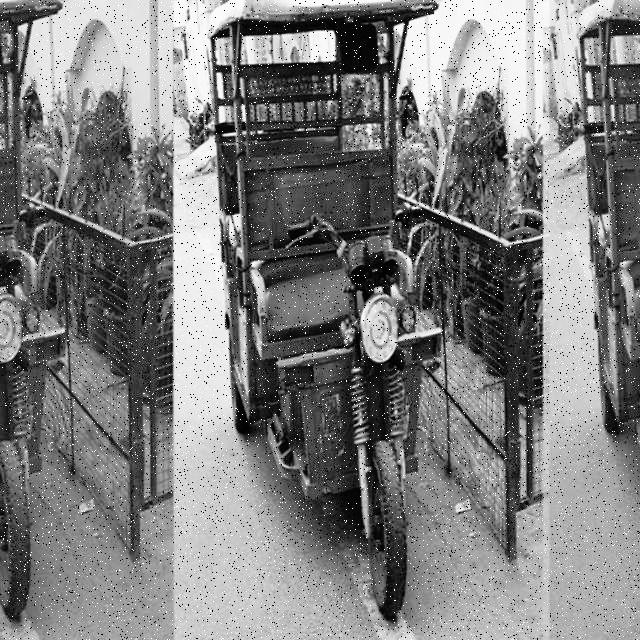Toto: (209, 0, 449, 608), (0, 0, 74, 629), (573, 0, 640, 602)
